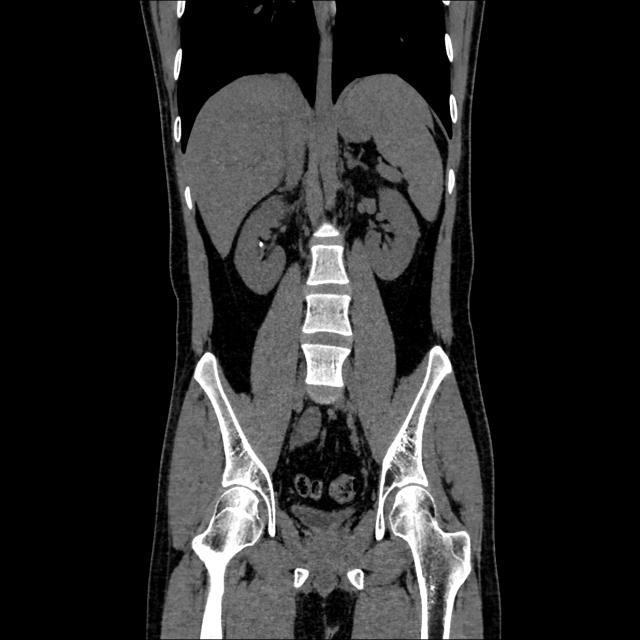kidneystone: (259, 241, 264, 246)
